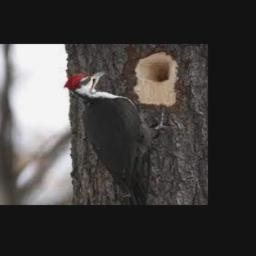Woodpecker: (64, 70, 173, 204)
